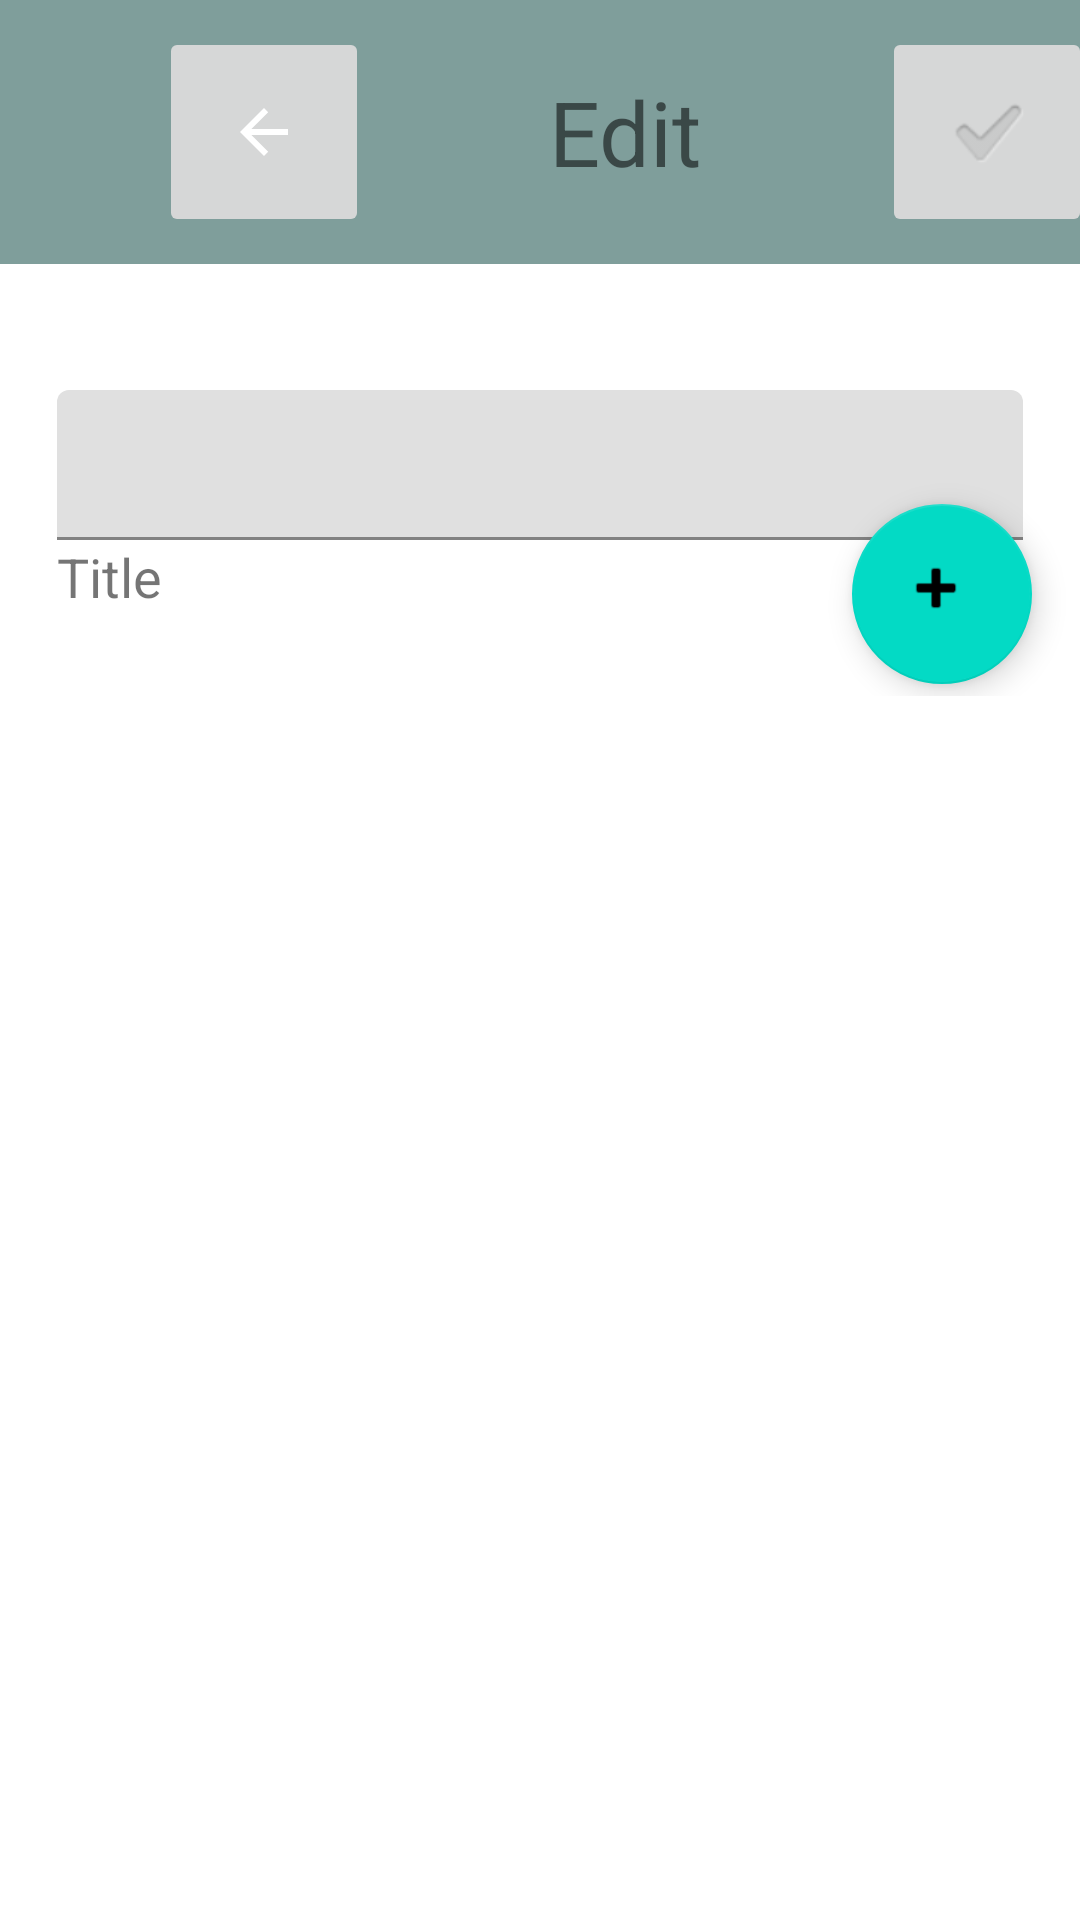

Named icons in this screenshot (1080px x 1920px) and their bounding boxes, box=[x1, y1, x2, y2]:
add: box=[852, 504, 1032, 684]
